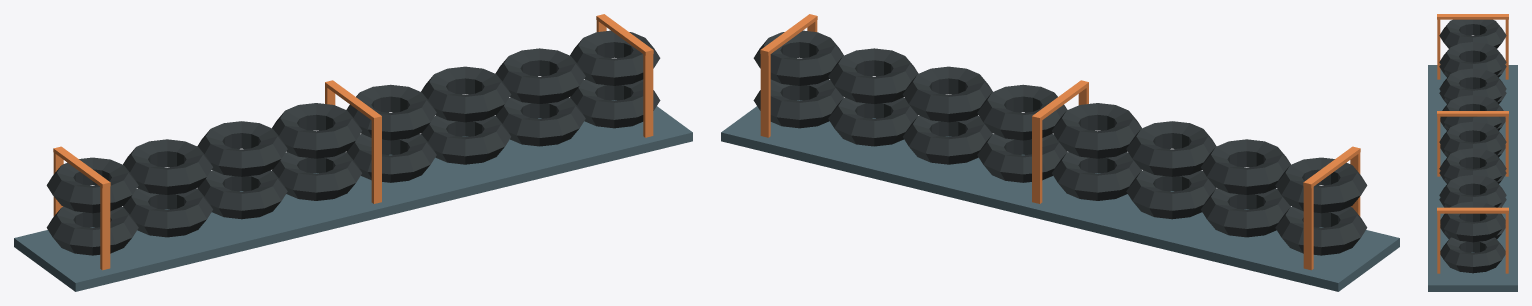
Rendered from tire-barrier.glb.
3 views of the same model, side by side, from view 1: azimuth 30°, elevation 25°; view 2: azimuth 150°, elevation 25°; view 3: azimuth 270°, elevation 25° (orthographic). The views are drawn at different scales.
Parts seen in each view (by area): view 1: Tires, TireBase, SafetyBands; view 2: Tires, TireBase, SafetyBands; view 3: Tires, TireBase, SafetyBands.
Boxes of the visible parts, x1=… form: Tires: x1=46, y1=30, x2=660, y2=255; TireBase: x1=14, y1=100, x2=692, y2=291; SafetyBands: x1=53, y1=14, x2=653, y2=270; Tires: x1=753, y1=30, x2=1367, y2=255; TireBase: x1=721, y1=100, x2=1399, y2=291; SafetyBands: x1=760, y1=14, x2=1360, y2=270; Tires: x1=1439, y1=19, x2=1506, y2=273; TireBase: x1=1428, y1=65, x2=1517, y2=291; SafetyBands: x1=1437, y1=14, x2=1508, y2=273.
Size of the model in its own units: 5.8 by 0.8525 by 1.
